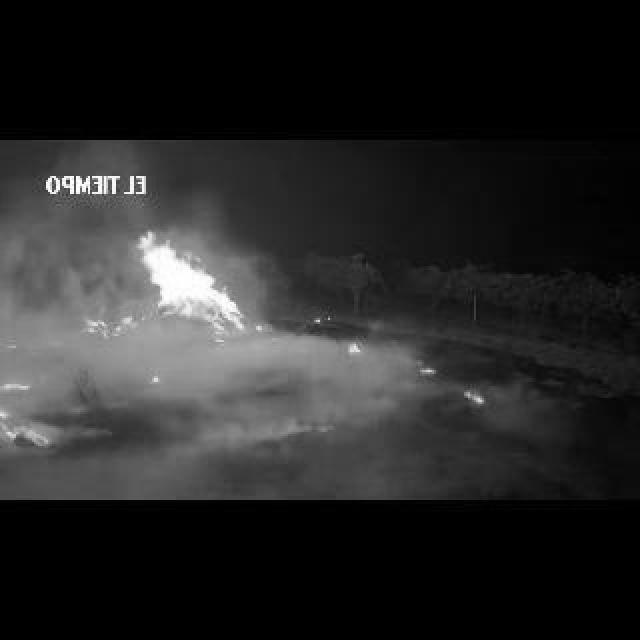Fire: (140, 230, 248, 338), (4, 410, 52, 442), (84, 312, 132, 336), (464, 390, 484, 402), (6, 380, 32, 388), (348, 342, 362, 354), (418, 366, 436, 374), (152, 374, 160, 384), (254, 326, 264, 332), (314, 316, 320, 322)
